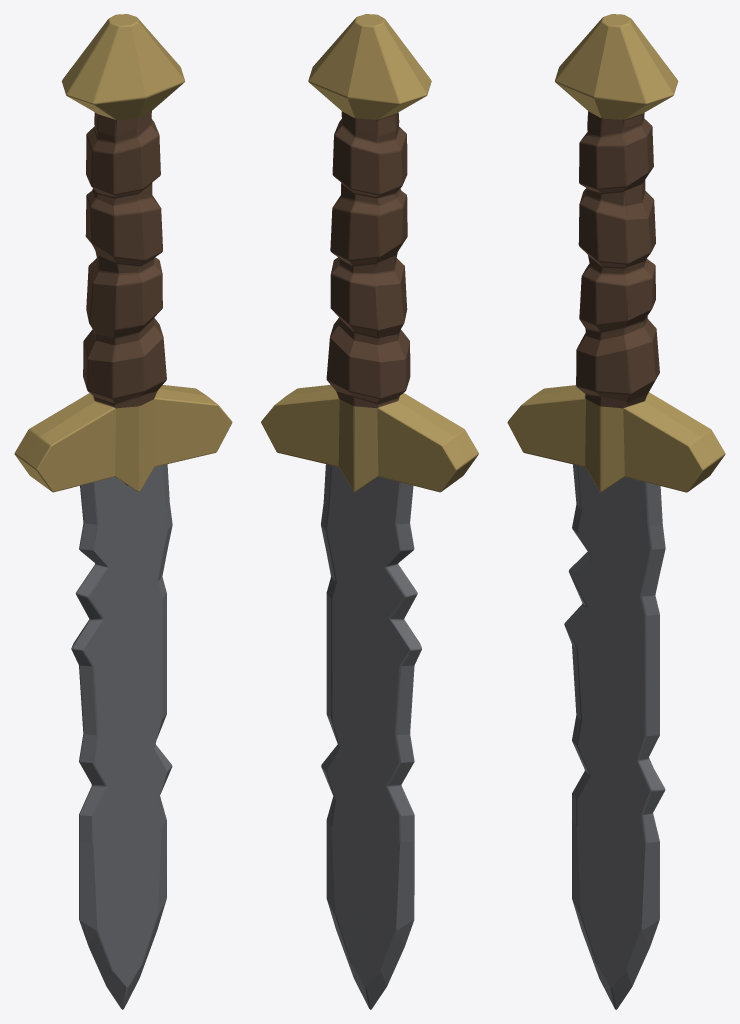
The model's file is dagger_3.glb.
3 views of the same model, side by side, from view 1: azimuth 30°, elevation 25°; view 2: azimuth 150°, elevation 25°; view 3: azimuth 330°, elevation 25° (orthographic).
Parts seen in each view (by area): view 1: dagger_3; view 2: dagger_3; view 3: dagger_3.
Boxes of the visible parts, box(x1,y1,x2,y2) form: dagger_3: box(14, 14, 232, 1009); dagger_3: box(261, 14, 478, 1009); dagger_3: box(507, 14, 725, 1009).
Size of the model in its own units: 0.0932 by 0.45 by 0.037.
